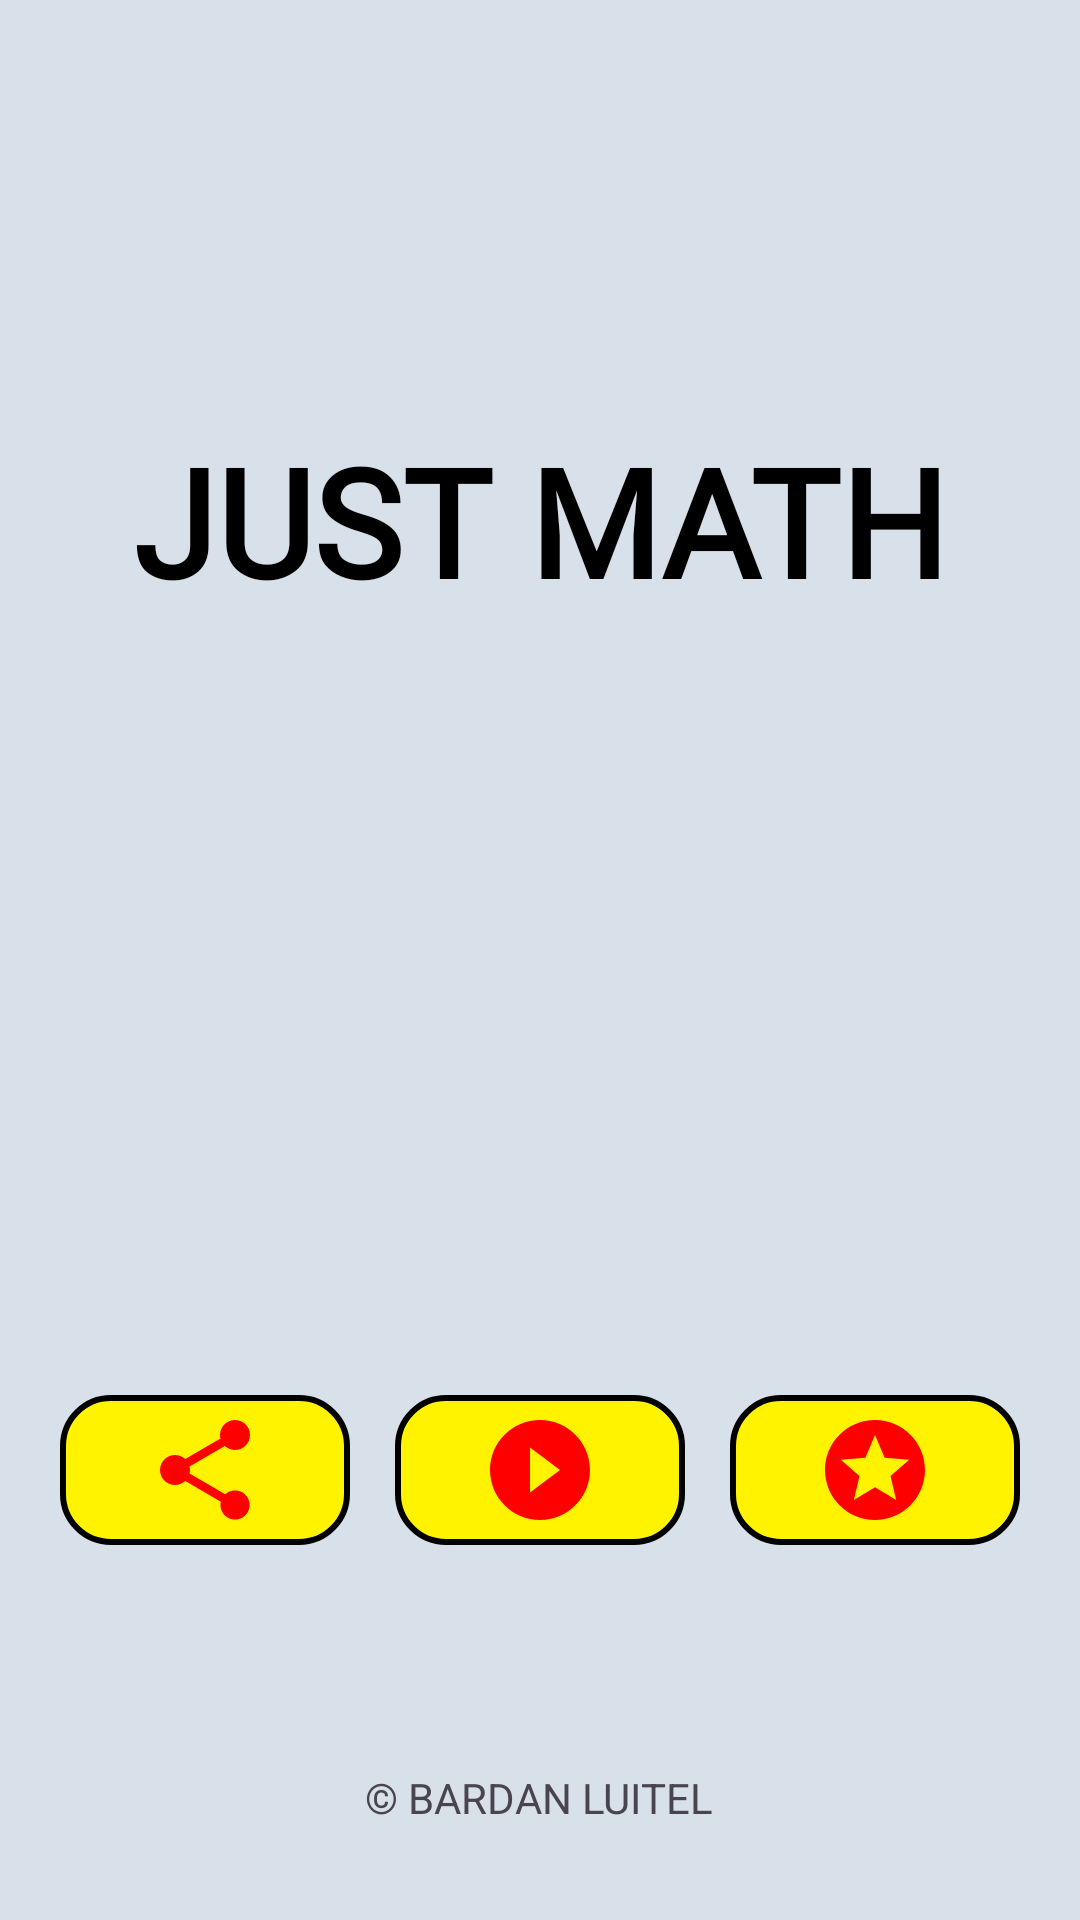

Where to tap for icons on this 1080w x 1920h app screen, as (x,y):
play: (540,1470)
share: (205,1470)
star: (875,1470)
